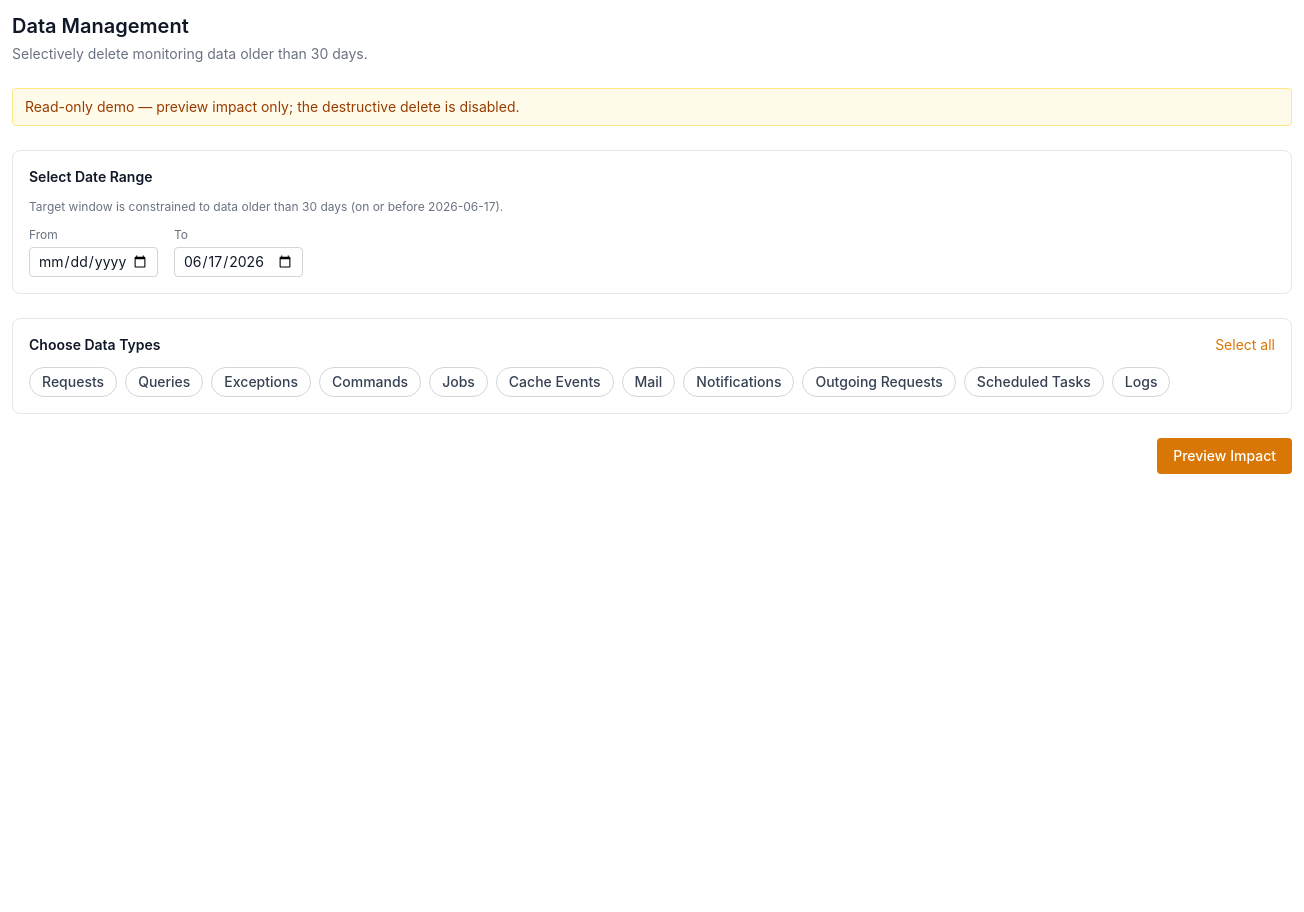
Scenario: DataManagementPage › reveals the optional Filters card only once a type is selected
The width and height of the screenshot is (1304, 912).
Expected: the text "Filters (optional)" is not shown
Click the button "Requests".
click(73, 382)  # box x1=29 y1=367 x2=117 y2=397
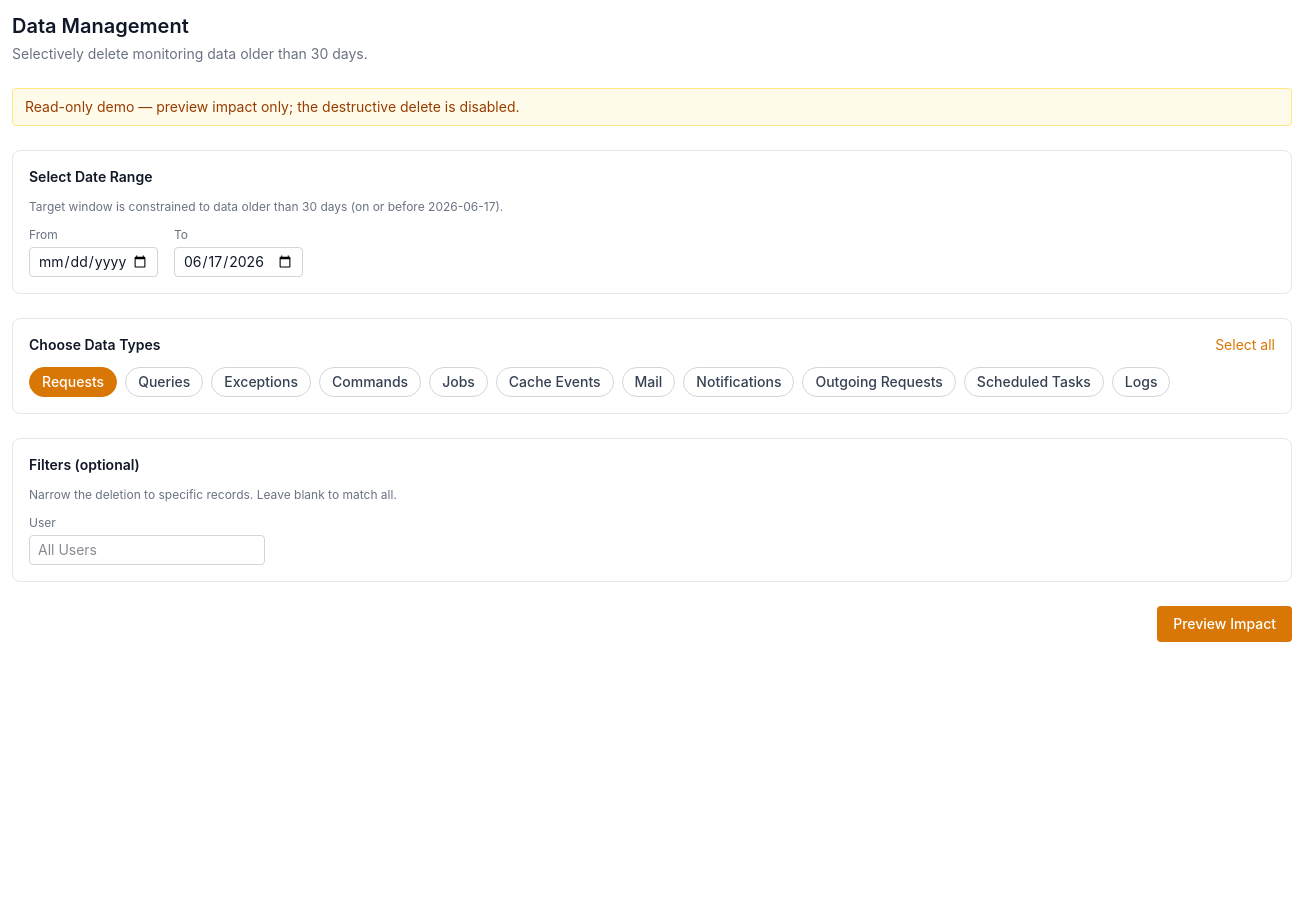
Expected: the text "Log Level" is not shown
Result: the text "Filters (optional)" is shown at x1=29 y1=455 x2=140 y2=475
Click the button "Logs".
click(1141, 382)  # box x1=1112 y1=367 x2=1170 y2=397
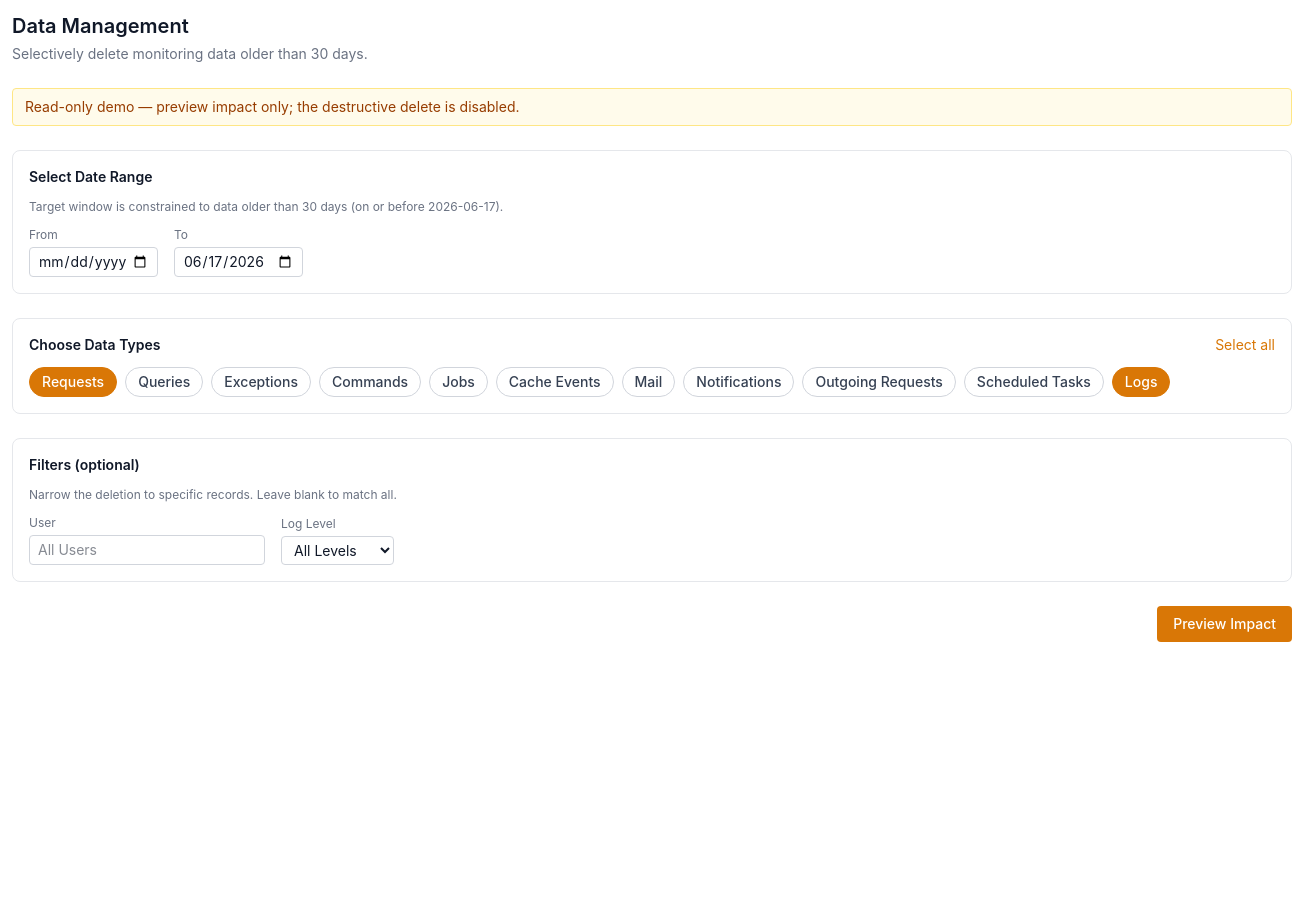
Result: the text "Log Level" is shown at x1=281 y1=516 x2=394 y2=565
